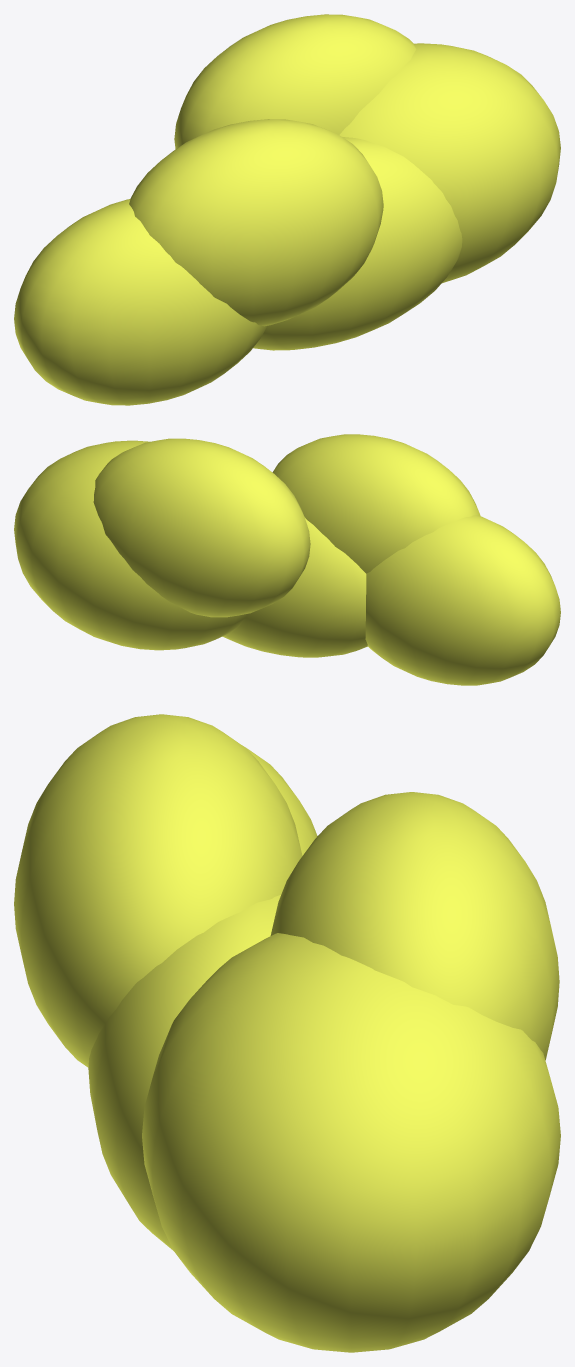
File: bush1.obj
3 renders of one model, top to bottom at view 1: azimuth 30°, elevation 25°; view 2: azimuth 150°, elevation 25°; view 3: azimuth 270°, elevation 25°, orthographic. The views are drawn at different scales.
Visible parts, largest first — view 1: pSphere6, pSphere7, pSphere10, pSphere9, pSphere8; view 2: pSphere9, pSphere7, pSphere10, pSphere6, pSphere8; view 3: pSphere10, pSphere6, pSphere9, pSphere8, pSphere7.
Boxes of the visible parts, left/top/right/bottom form: pSphere6: left=129, top=119, right=383, bottom=326; pSphere7: left=14, top=199, right=266, bottom=405; pSphere10: left=339, top=43, right=560, bottom=283; pSphere9: left=174, top=14, right=416, bottom=149; pSphere8: left=253, top=137, right=462, bottom=350; pSphere9: left=93, top=438, right=310, bottom=617; pSphere7: left=365, top=515, right=560, bottom=685; pSphere10: left=14, top=440, right=247, bottom=650; pSphere6: left=272, top=434, right=480, bottom=573; pSphere8: left=222, top=518, right=367, bottom=657; pSphere10: left=142, top=933, right=560, bottom=1352; pSphere6: left=14, top=714, right=302, bottom=1067; pSphere9: left=270, top=792, right=559, bottom=1060; pSphere8: left=88, top=895, right=280, bottom=1250; pSphere7: left=242, top=745, right=317, bottom=855.
Bounding box in the file's own units: 7.53 × 3.33 × 3.7.
